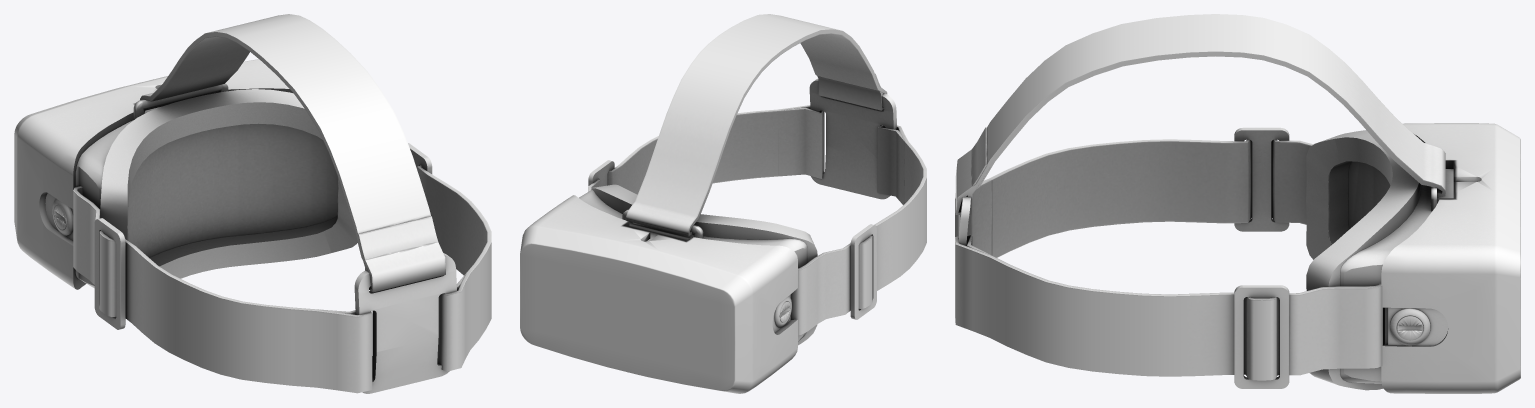
The model's file is headset.obj.
The picture shows the model from 3 angles, left to right: view 1: azimuth 30°, elevation 25°; view 2: azimuth 150°, elevation 25°; view 3: azimuth 270°, elevation 25°; orthographic projection. The views are drawn at different scales.
Visible parts, largest first — view 1: dk2_hmd:dk2_hmd_dk2_hmd_mesh_Untitled; view 2: dk2_hmd:dk2_hmd_dk2_hmd_mesh_Untitled; view 3: dk2_hmd:dk2_hmd_dk2_hmd_mesh_Untitled.
Part boxes in pixels (x1,y1,x2,y2): dk2_hmd:dk2_hmd_dk2_hmd_mesh_Untitled: (14,14,491,393); dk2_hmd:dk2_hmd_dk2_hmd_mesh_Untitled: (520,14,926,393); dk2_hmd:dk2_hmd_dk2_hmd_mesh_Untitled: (955,14,1520,393).
Bounding box in the file's own units: 0.2288 × 0.2034 × 0.332.
1 material, 1 textured.
